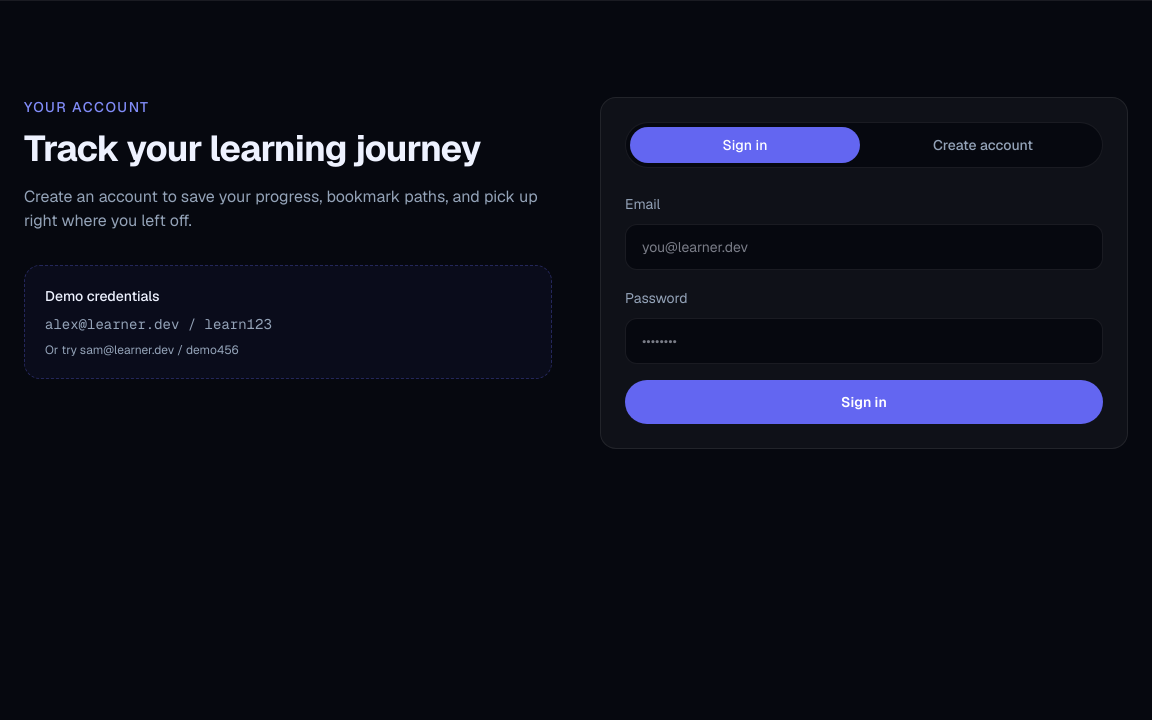
Test: Account › shows an error for invalid credentials
Type "wrong@example.com" into the field labelled "Email" at (864, 247), box [625,224,1103,270]
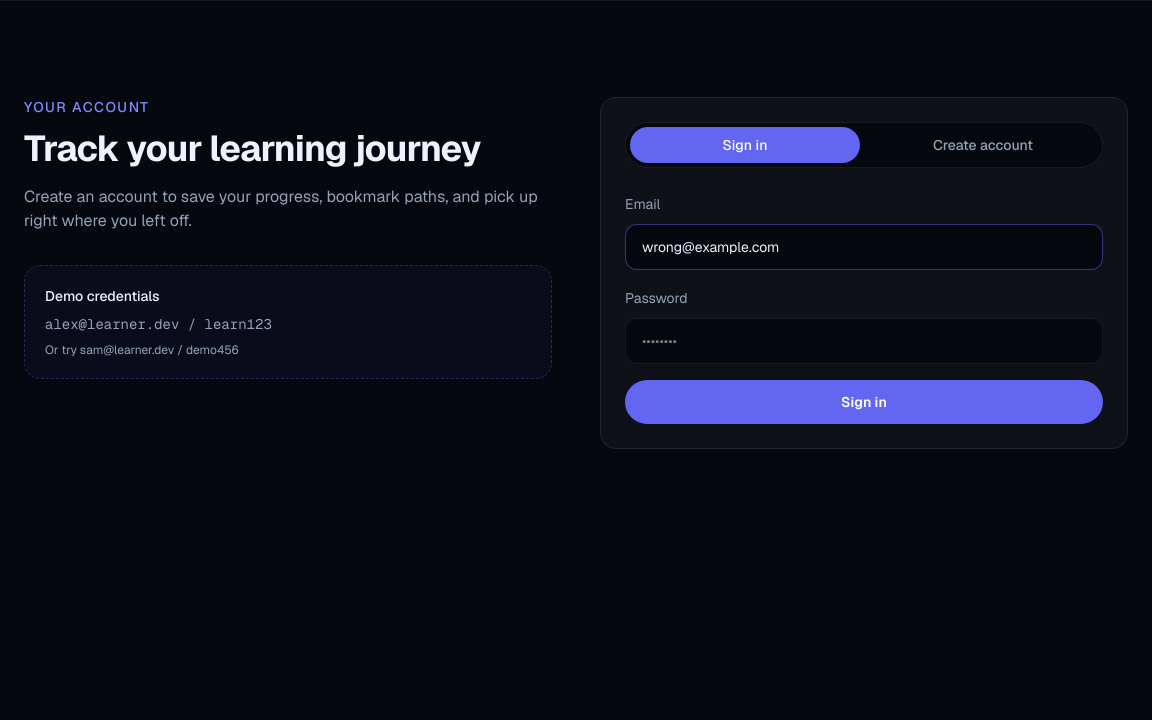
Type "bad-password" into the password field labelled "Password" at (864, 341), box [625,318,1103,364]
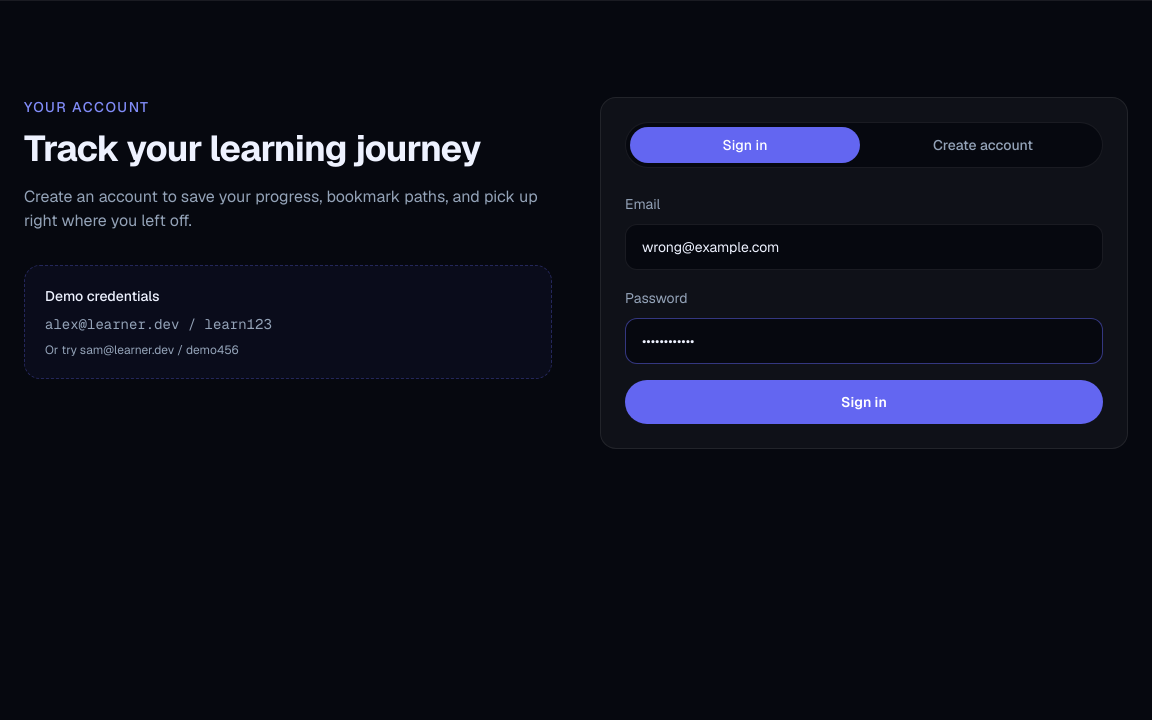
Click the button "Sign in" below "Password" at (864, 402), box [625,380,1103,424]
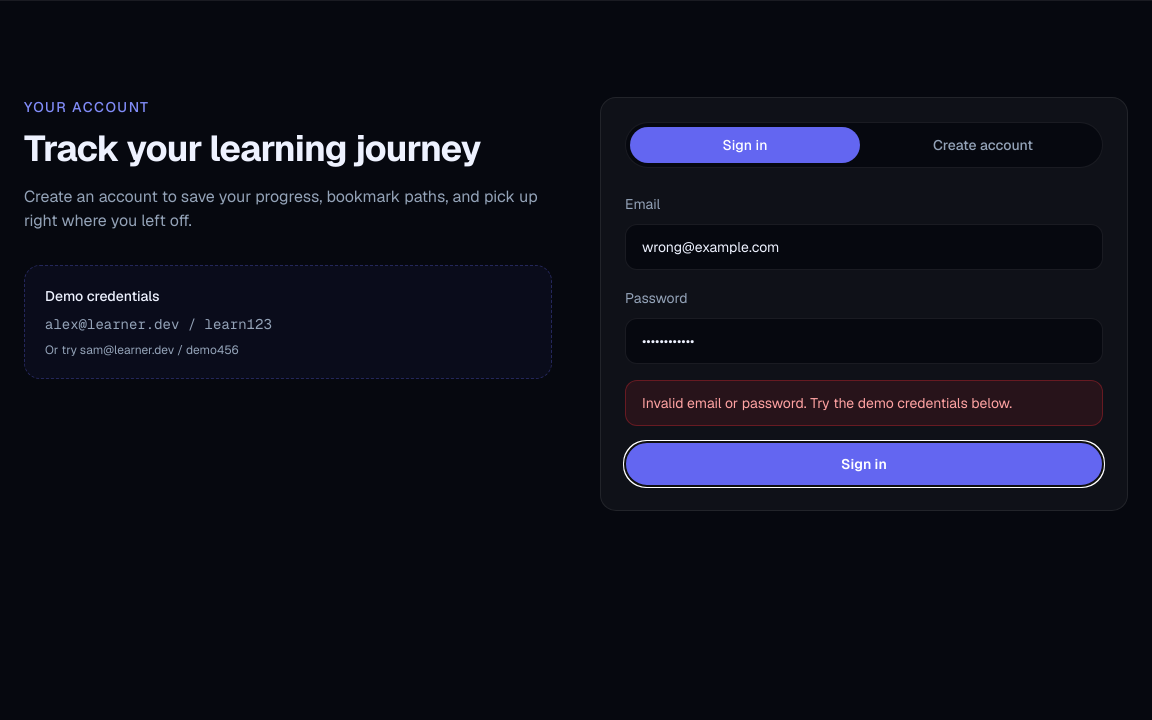
expect the text "Invalid email or password. Try the demo credentials below." is shown: met, box [625,380,1103,426]
